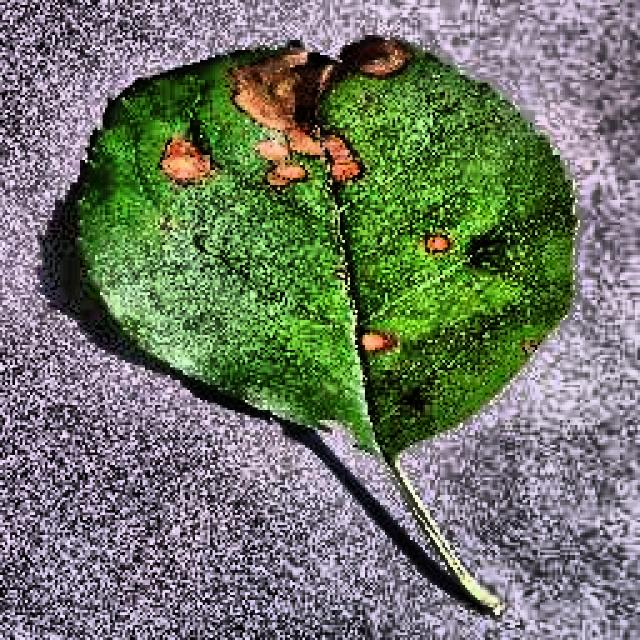tobacco: (78, 33, 575, 472)
